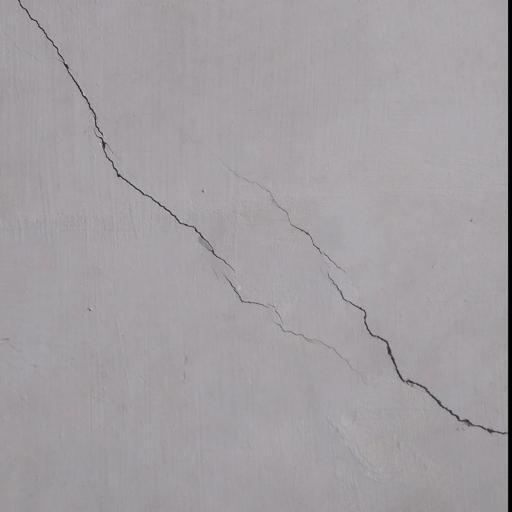minor_crack: (10, 0, 512, 458)
